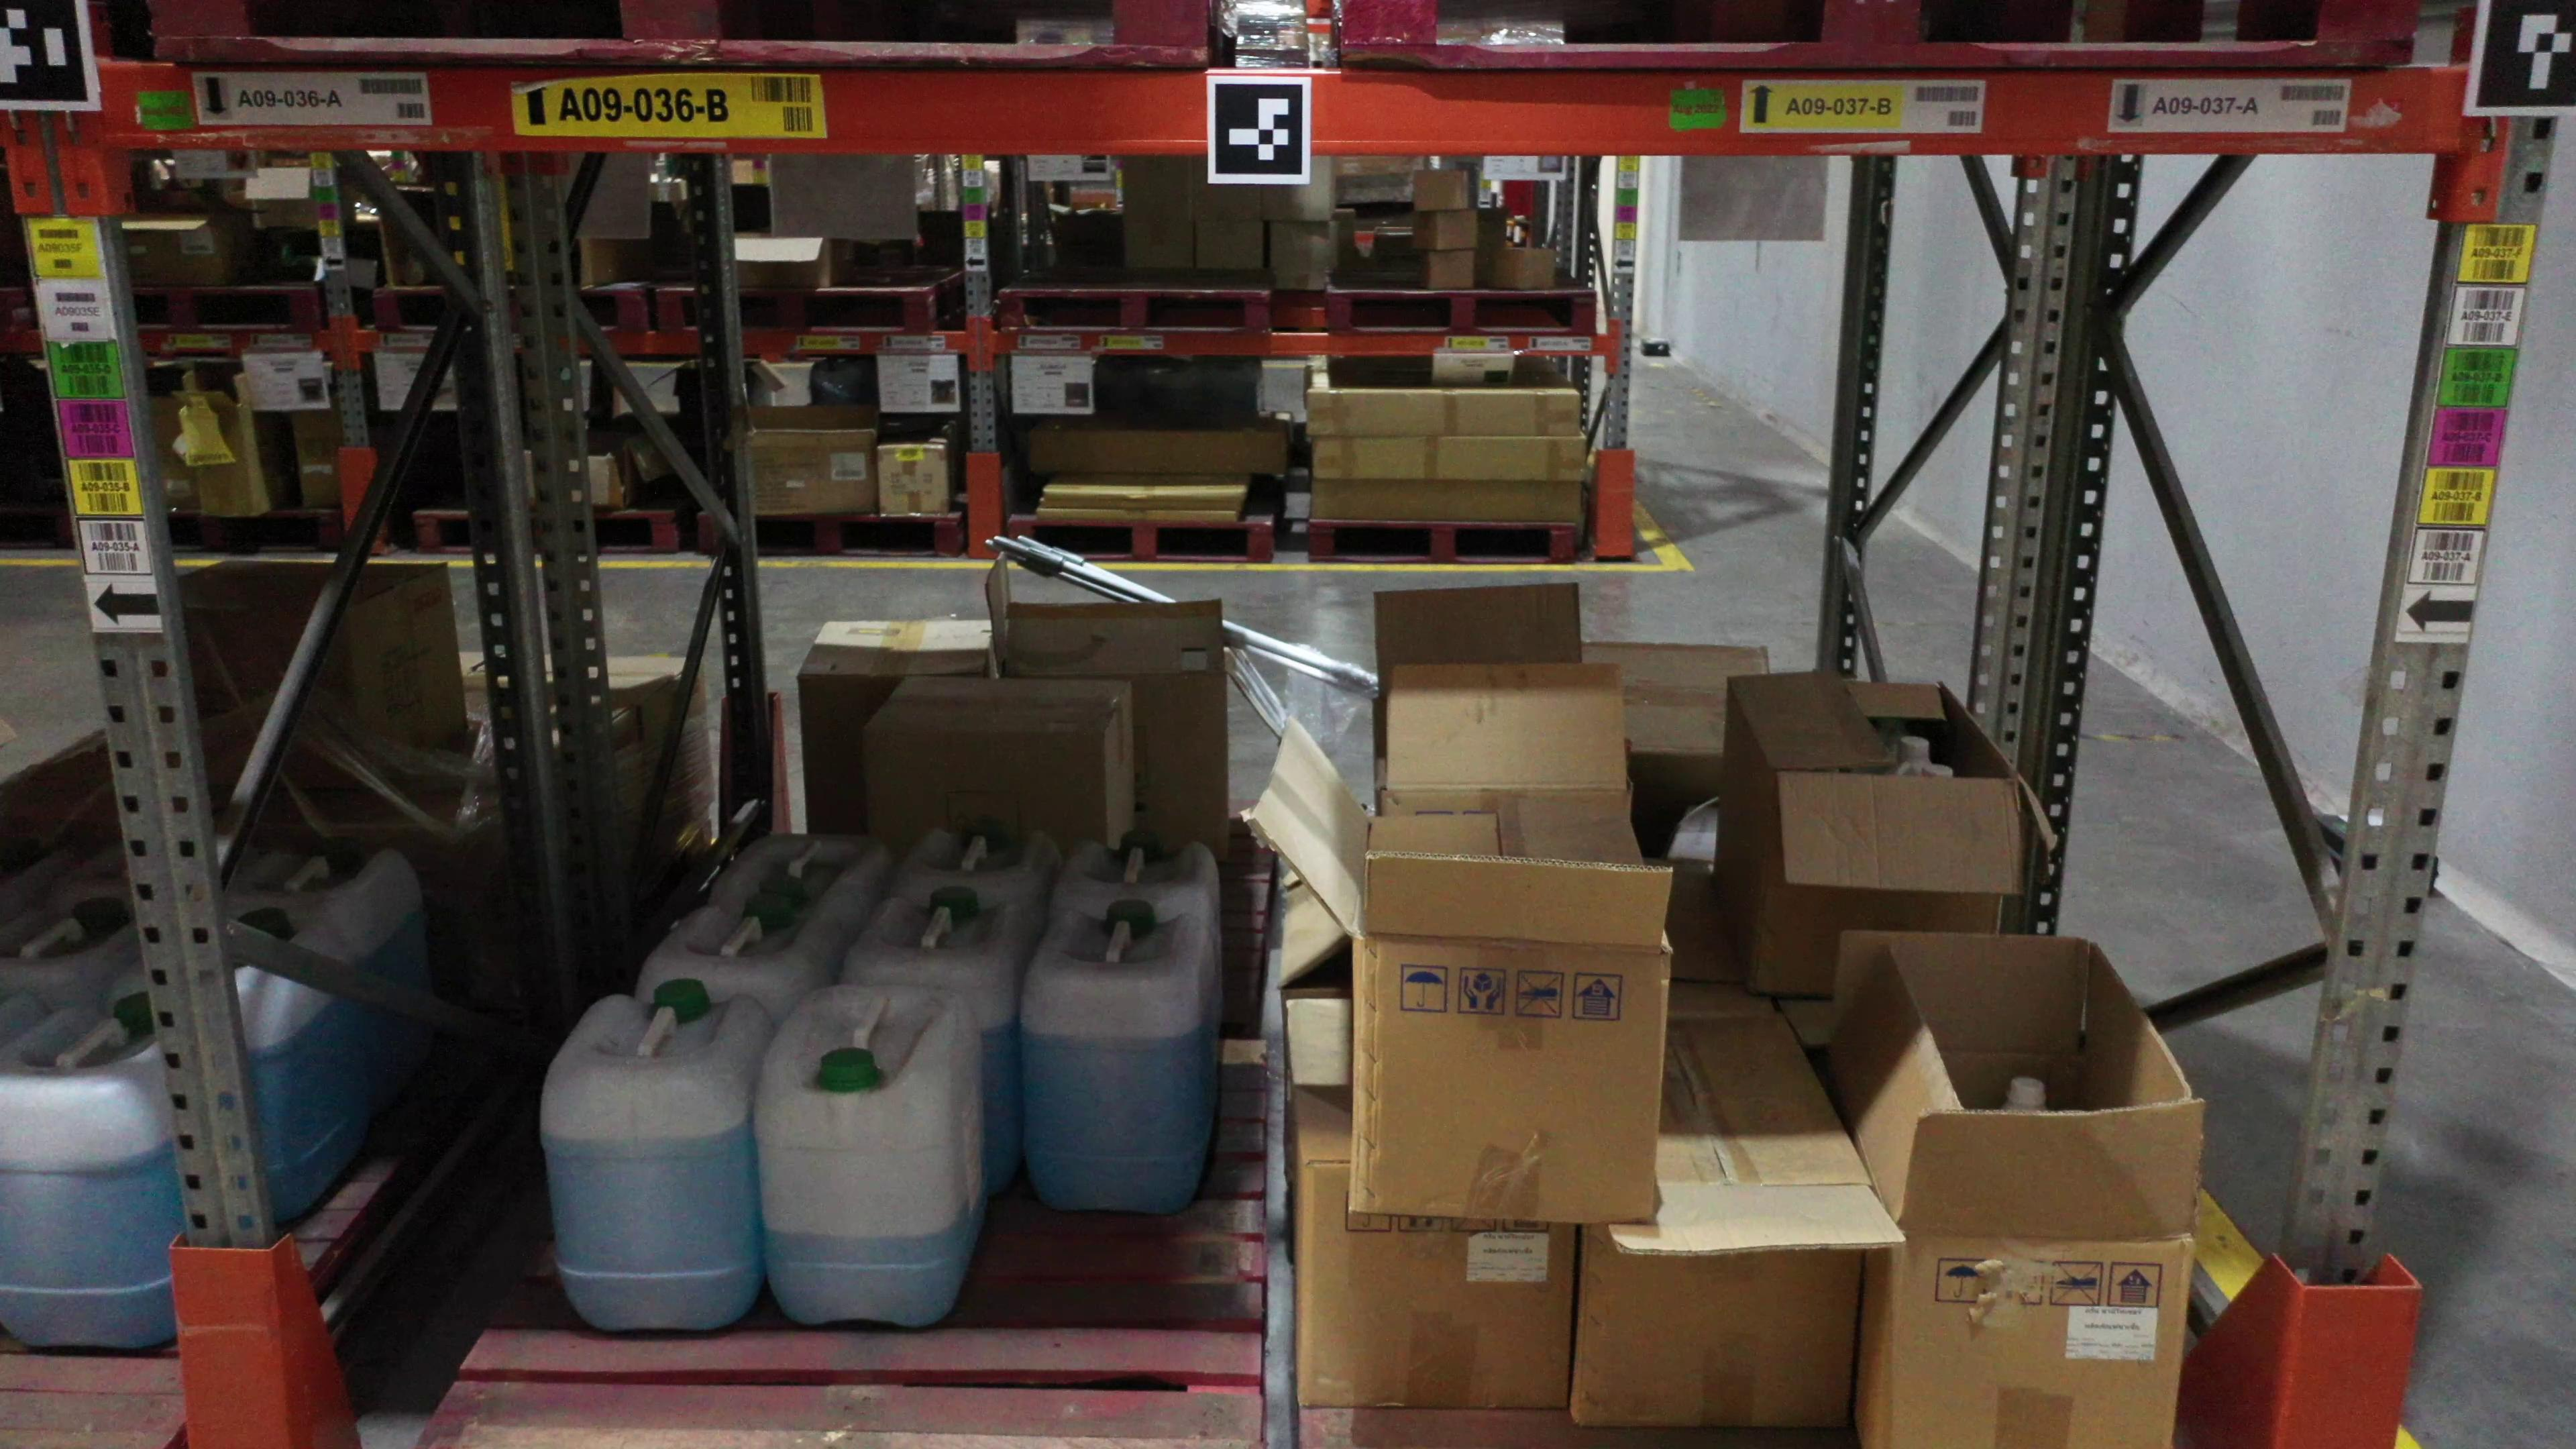-: (1346, 932, 1672, 1226), (1295, 1162, 1583, 1412), (1882, 1244, 2197, 1449), (1575, 1223, 1879, 1430), (1755, 773, 2010, 1001), (541, 1062, 757, 1325), (755, 1085, 950, 1330), (1023, 971, 1198, 1217)
